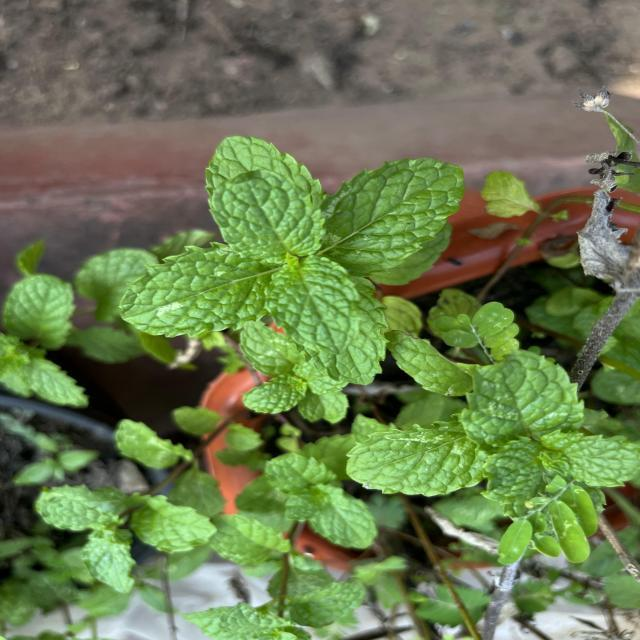Mentha spicata: (322, 156, 466, 279), (117, 240, 270, 340), (208, 167, 328, 265), (344, 420, 486, 498), (263, 253, 364, 356)
